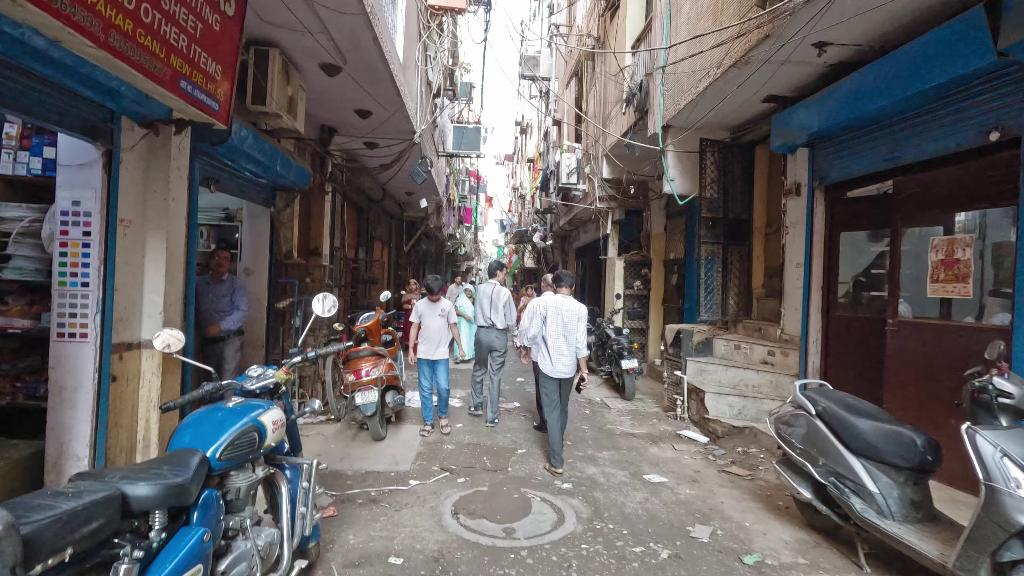garbage: (677, 429, 711, 444), (688, 524, 715, 541), (641, 472, 669, 484)
